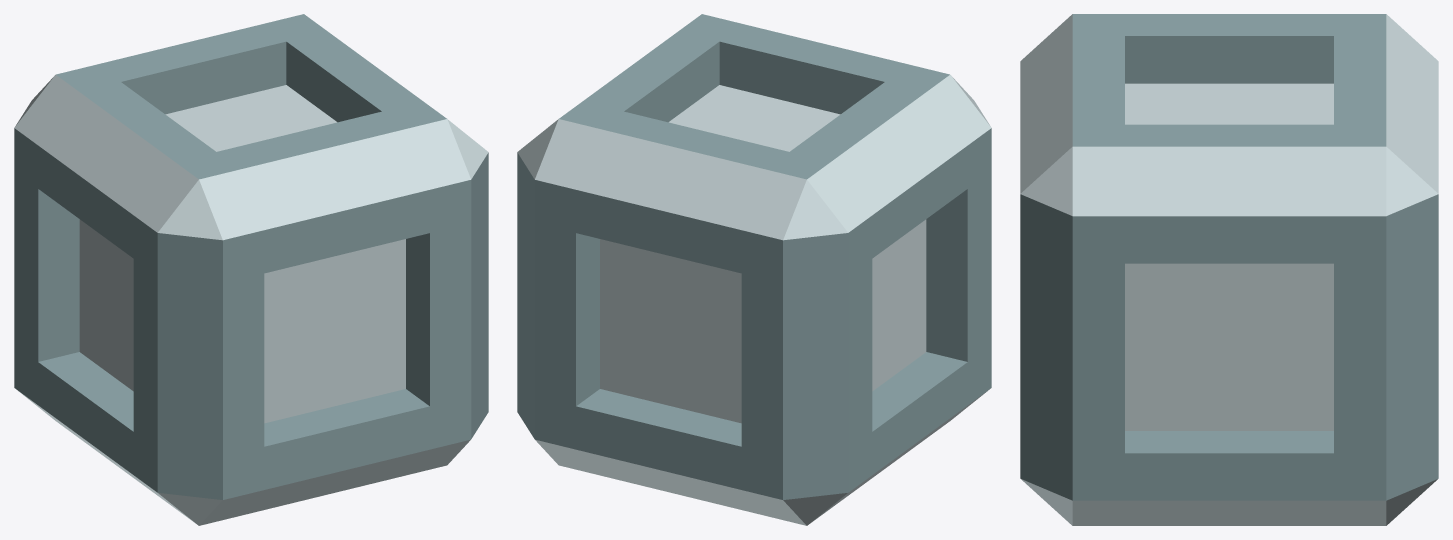
The model's file is statue_block.glb.
3 views of the same model, side by side, from view 1: azimuth 30°, elevation 25°; view 2: azimuth 150°, elevation 25°; view 3: azimuth 270°, elevation 25° (orthographic). The views are drawn at different scales.
Parts seen in each view (by area): view 1: statue_block; view 2: statue_block; view 3: statue_block.
Boxes of the visible parts, <box> form: statue_block: <box>14,14,488,525</box>; statue_block: <box>517,14,991,525</box>; statue_block: <box>1020,14,1438,525</box>.
Size of the model in its own units: 0.4 by 0.4 by 0.4.
